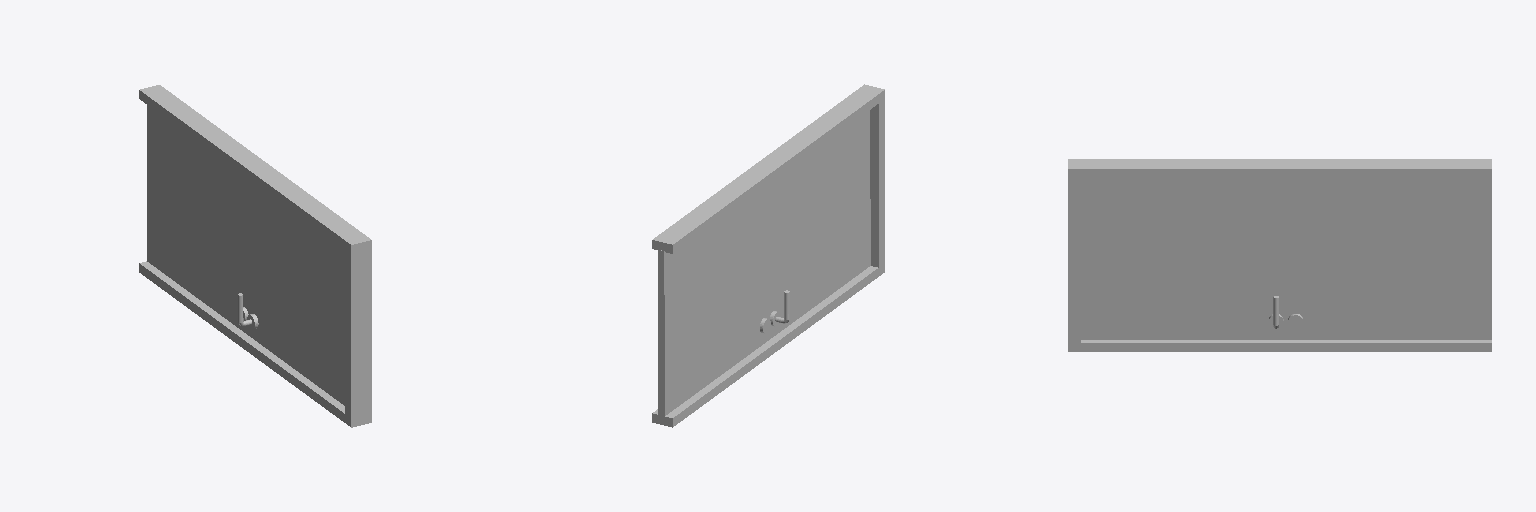
The model's file is door_single.obj.
The picture shows the model from 3 angles: view 1: azimuth 30°, elevation 25°; view 2: azimuth 150°, elevation 25°; view 3: azimuth 270°, elevation 25°; orthographic projection.
Parts seen in each view (by area): view 1: wrist_door_h14_1.014_Cylinder.034; view 2: wrist_door_h14_1.014_Cylinder.034; view 3: wrist_door_h14_1.014_Cylinder.034.
Part boxes in pixels (x1,y1,x2,y2): wrist_door_h14_1.014_Cylinder.034: (139,85,371,427); wrist_door_h14_1.014_Cylinder.034: (652,84,884,427); wrist_door_h14_1.014_Cylinder.034: (1068,159,1491,351).
Bounding box in the file's own units: 0.2264 × 0.9998 × 2.11.